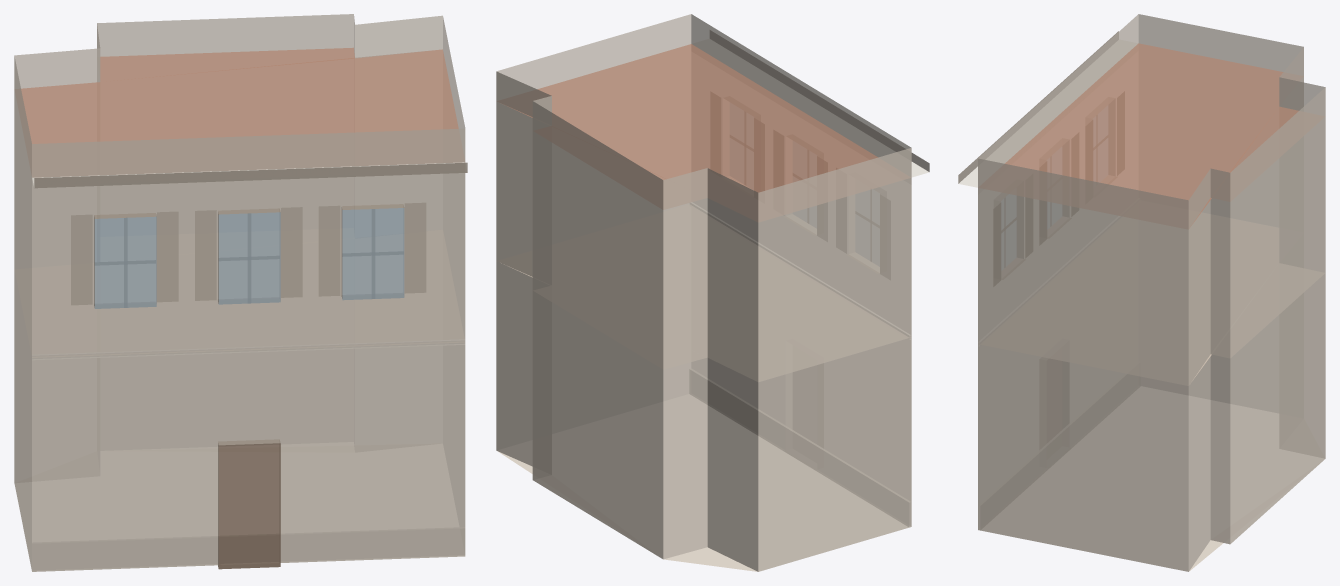
The model's file is INT-N1.glb.
3 renders of one model, left to right at view 1: azimuth 30°, elevation 25°; view 2: azimuth 150°, elevation 25°; view 3: azimuth 270°, elevation 25°, orthographic. The views are drawn at different scales.
Parts seen in each view (by area): view 1: INT-N1; view 2: INT-N1; view 3: INT-N1.
Part boxes in pixels (box(x1,y1,x2,y2)): INT-N1: box(14, 14, 467, 571); INT-N1: box(496, 14, 929, 571); INT-N1: box(958, 14, 1325, 571).
Bounding box in the file's own units: 8.34 × 7.6 × 6.8.
